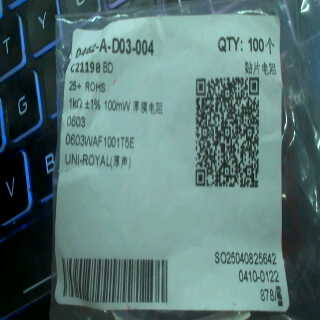1kR: (67, 95, 85, 113)
